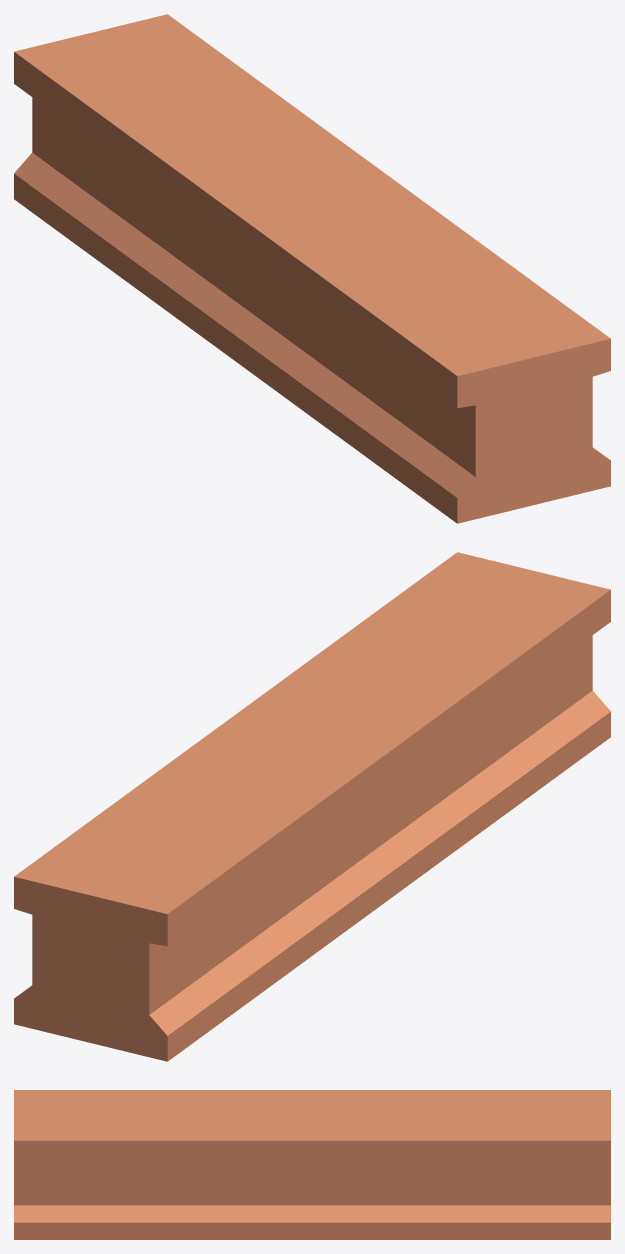
Rendered from Divider.fbx.
3 views of the same model, one above another, from view 1: azimuth 30°, elevation 25°; view 2: azimuth 150°, elevation 25°; view 3: azimuth 270°, elevation 25° (orthographic). The views are drawn at different scales.
Parts seen in each view (by area): view 1: Divider; view 2: Divider; view 3: Divider.
Part boxes in pixels (<box>): Divider: <box>14,14,610,523</box>; Divider: <box>14,552,610,1061</box>; Divider: <box>14,1090,610,1239</box>.
Size of the model in its own units: 2 by 1.84 by 10.
